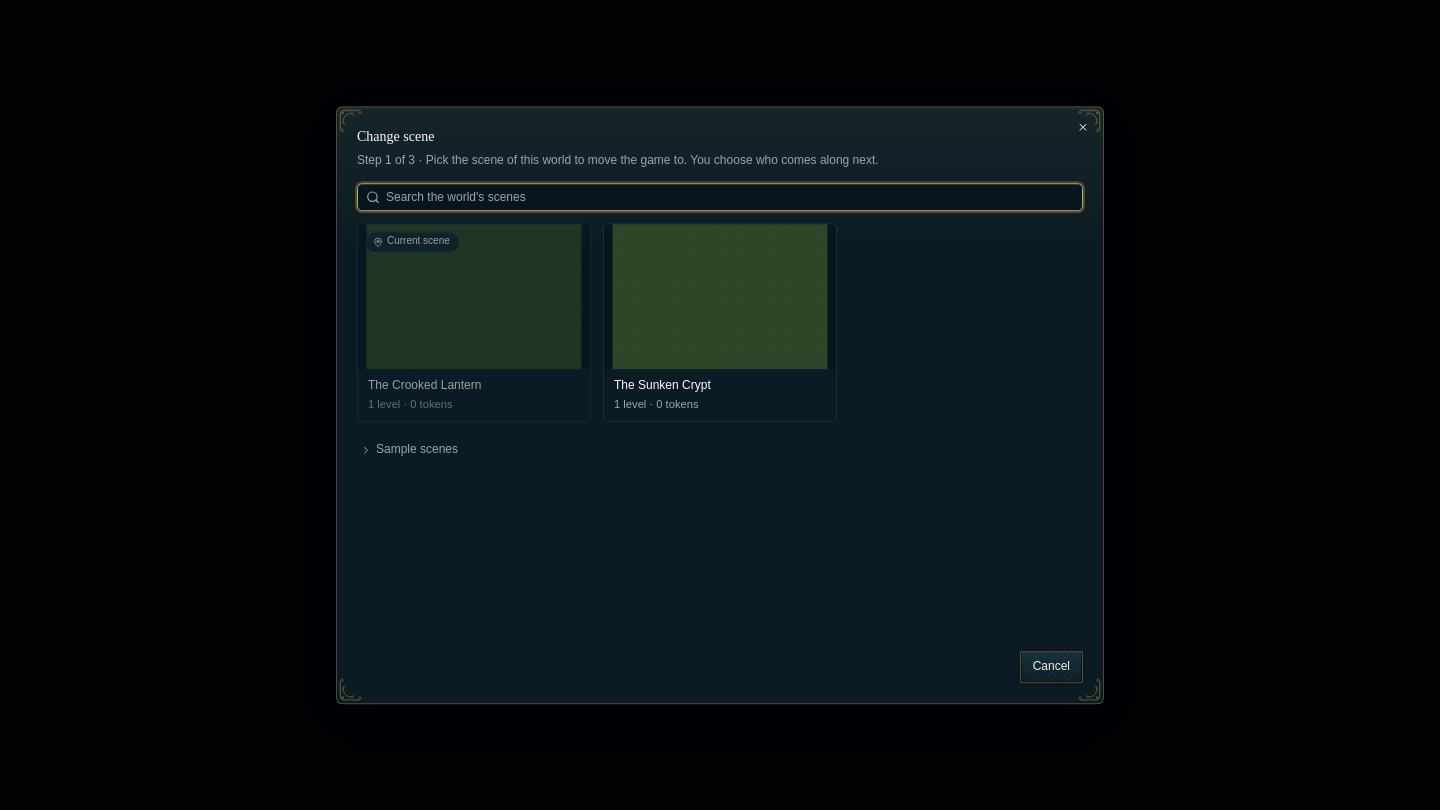
ChangeMapDialog › shows a refusal inline and keeps the dialog open
This screenshot has width=1440, height=810.
Click the button "The Sunken Crypt 1 level · 0 tokens". click: x=720, y=323
box: [603,223,837,422]
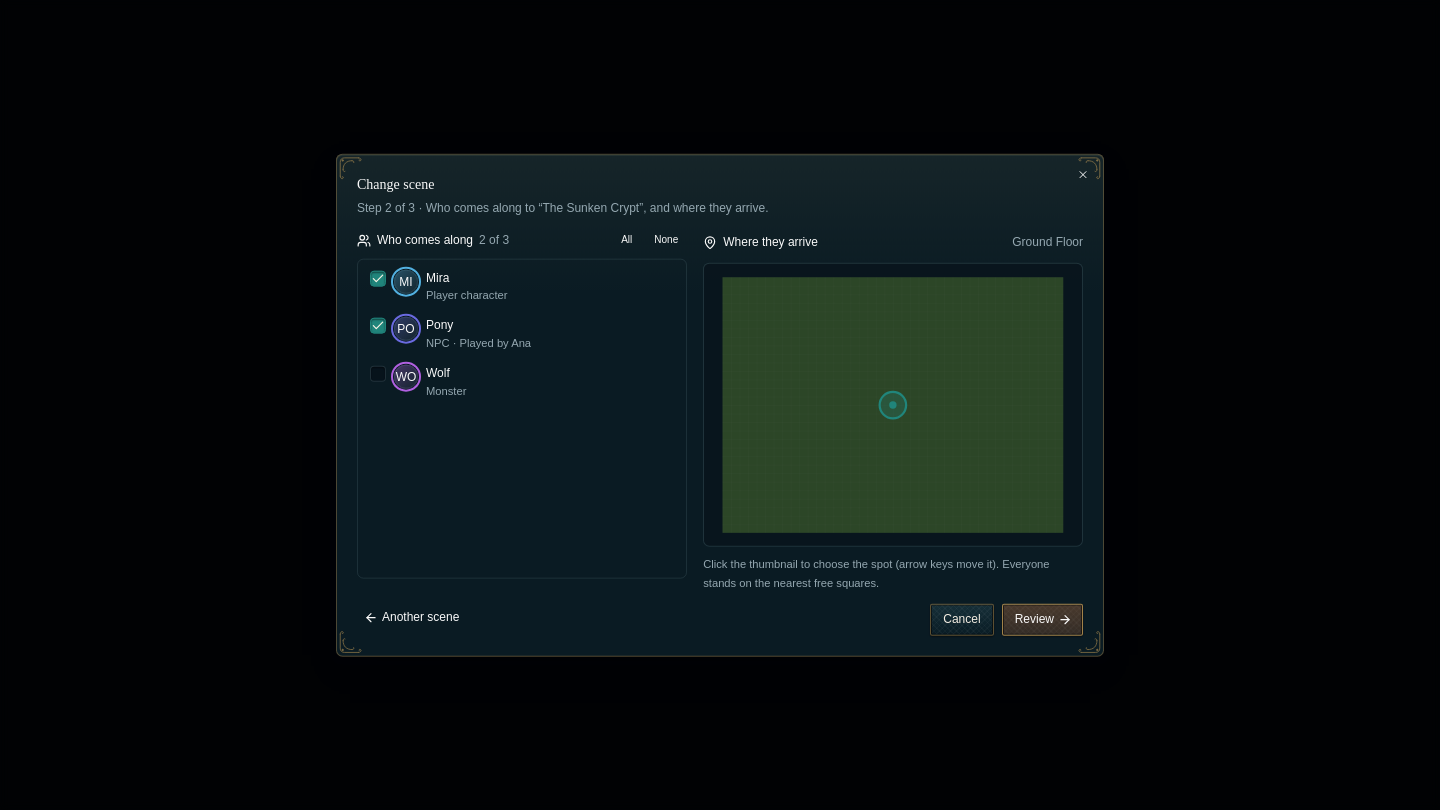
Click the button "Review". click: x=1042, y=619
box: [1002,603,1083,635]
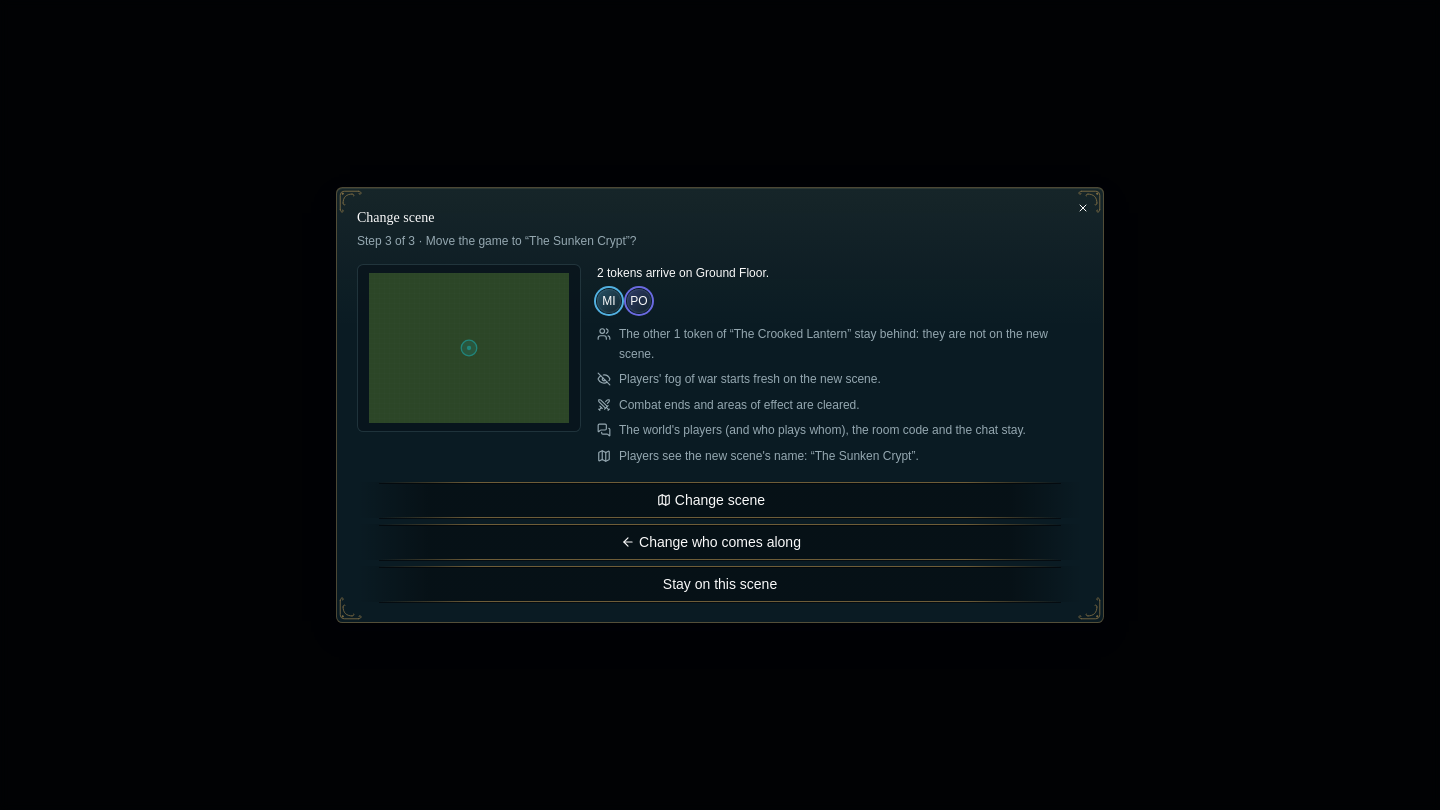
Click the button "Change scene". click: x=720, y=500
box: [357,482,1083,518]
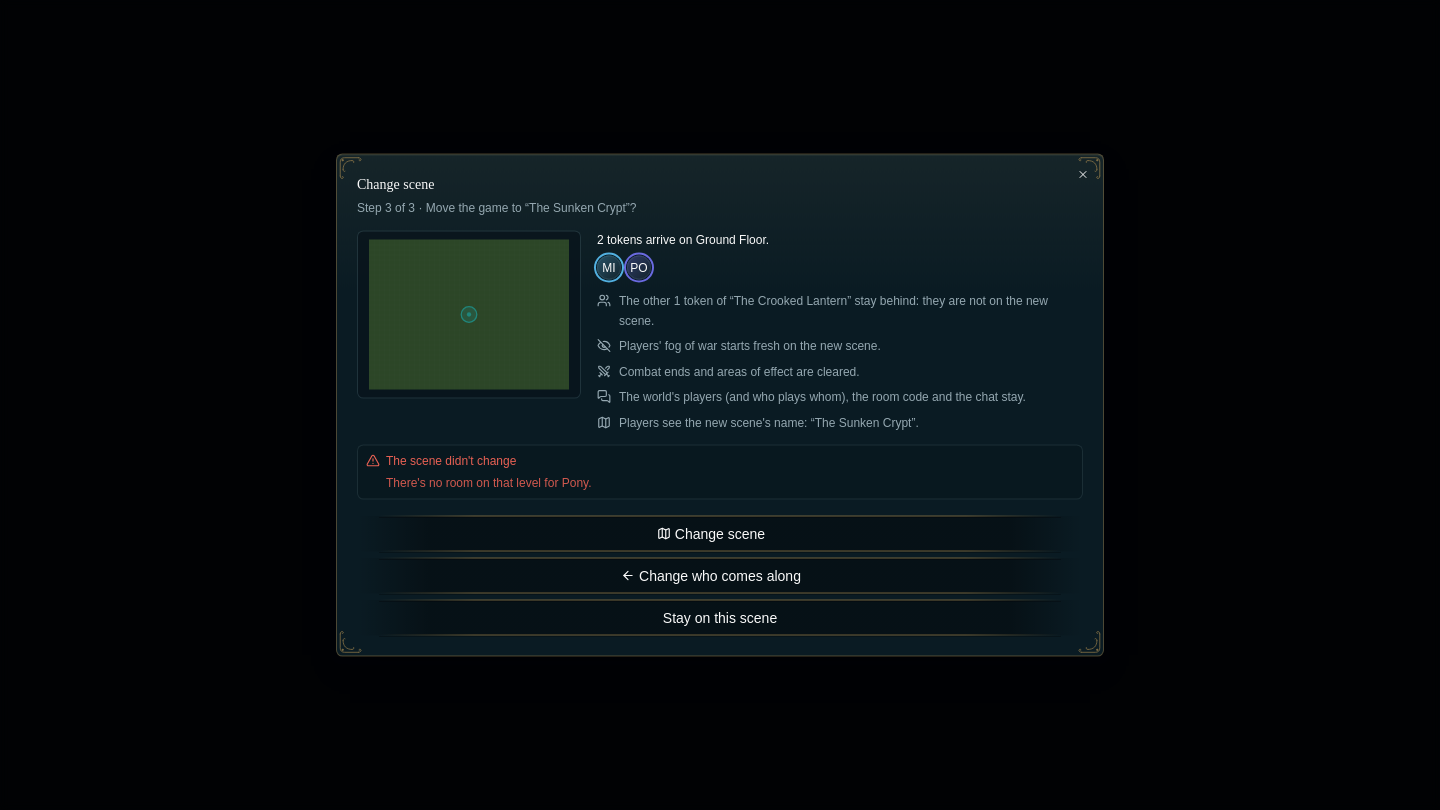
Result: the text "There's no room on that level for Pony." is shown at [386,475,592,489]
